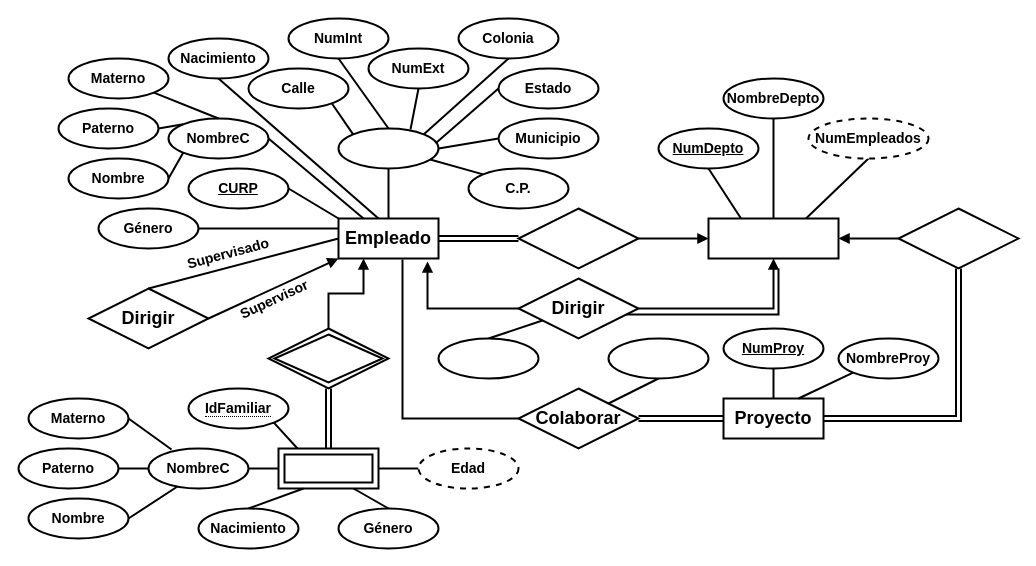
Image size: 1036x566. Some labels were removed from this diagram. Here are the shapes that lost their labels. From the top down, the box of each, then its label:
(337, 127, 439, 169): Dirección
(517, 207, 639, 269): Trabajar
(707, 217, 839, 259): Departamento
(897, 207, 1019, 269): Controlar
(267, 327, 389, 389): Tener
(437, 337, 539, 379): Fecha
(607, 337, 709, 379): NumHoras
(277, 447, 379, 489): Familiar
